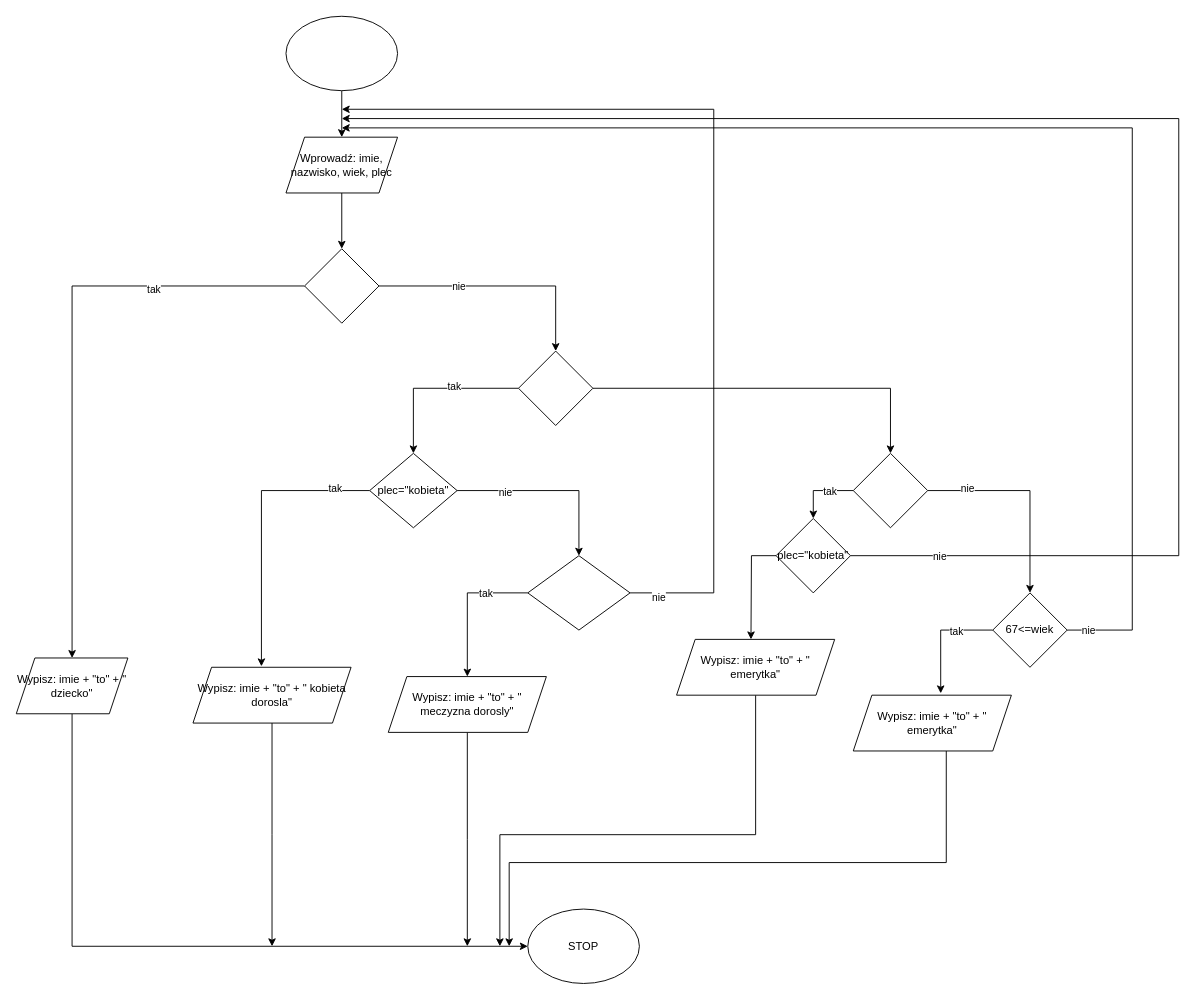
Image size: 1202x1000. Some labels were removed from this diagram. Each missing label, with the centre of its shape:
"18<=wiek<60" goes at point 555,387.
"18<=wiek<67" goes at point 578,592.
"60<=wiek" goes at point 890,490.
"start" goes at point 341,53.
"wiek<18" goes at point 341,285.
